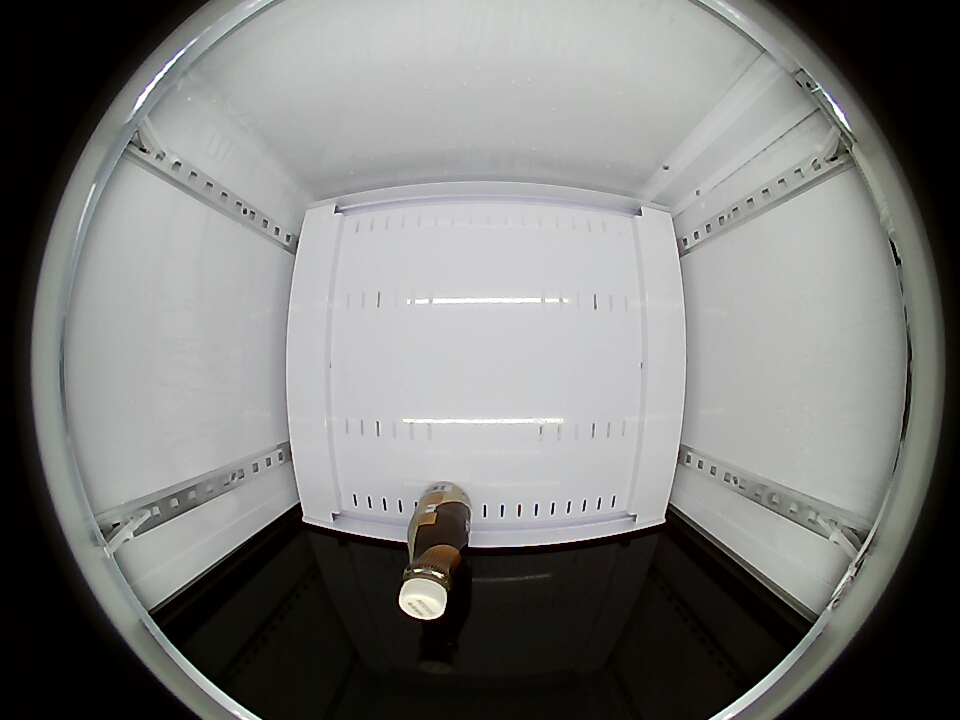kafei: (398, 523, 470, 622)
